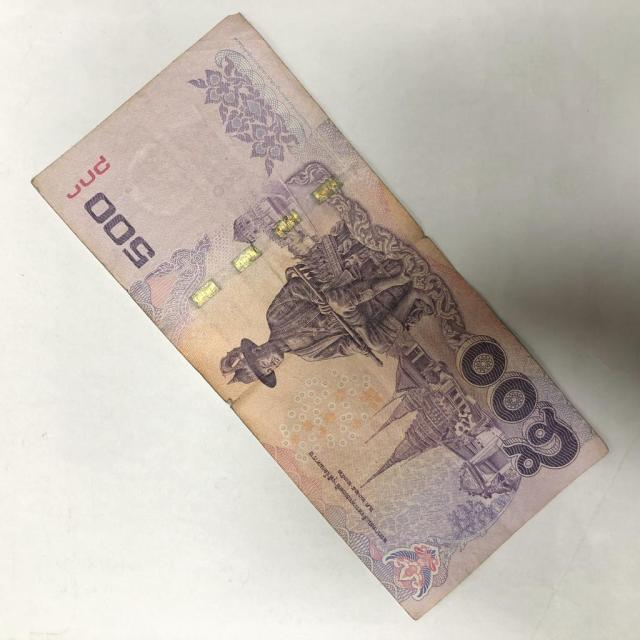THAI500: (33, 14, 607, 619)
